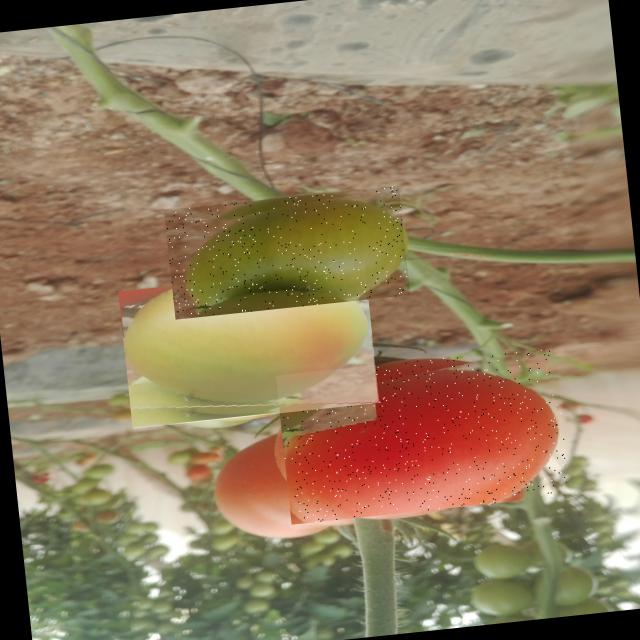Ripe Tomato: (276, 346, 570, 524)
Unripe Tomato: (118, 265, 379, 428), (163, 185, 410, 319)
